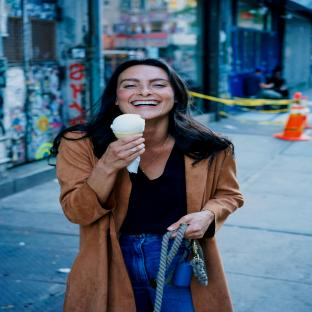Human: (51, 58, 243, 312)
